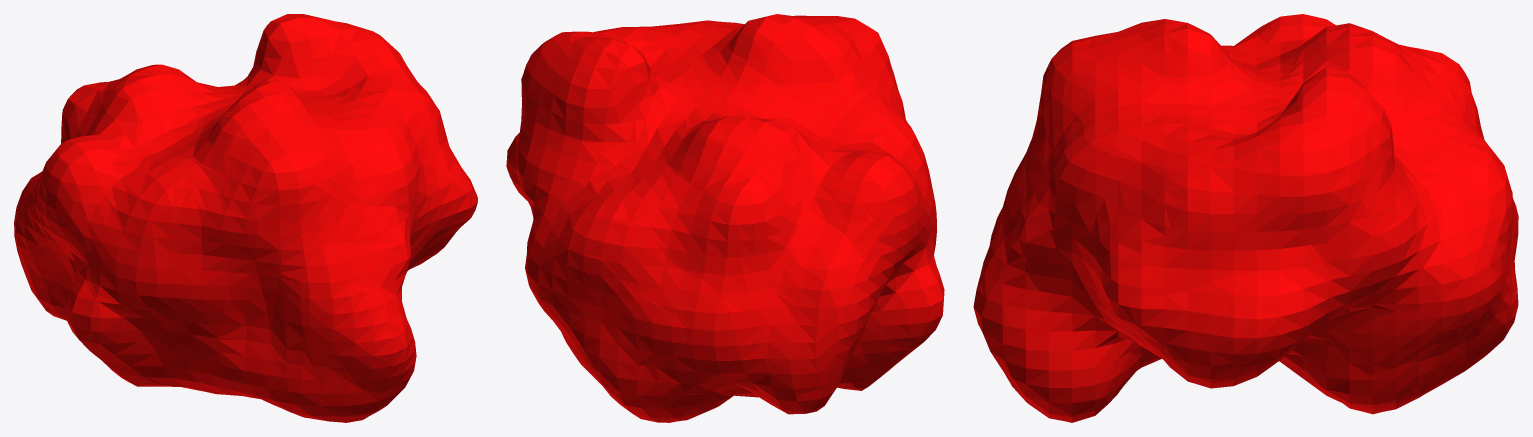
Rendered from pyrF_coarse.dae.
3 views of the same model, side by side, from view 1: azimuth 30°, elevation 25°; view 2: azimuth 150°, elevation 25°; view 3: azimuth 270°, elevation 25° (orthographic). The views are drawn at different scales.
Visible parts, largest first — view 1: pyrF; view 2: pyrF; view 3: pyrF.
Boxes of the visible parts, x1=… form: pyrF: x1=14, y1=14, x2=477, y2=422; pyrF: x1=506, y1=14, x2=944, y2=422; pyrF: x1=973, y1=14, x2=1518, y2=422.
Bounding box in the file's own units: 51.38 × 39.44 × 52.01.
